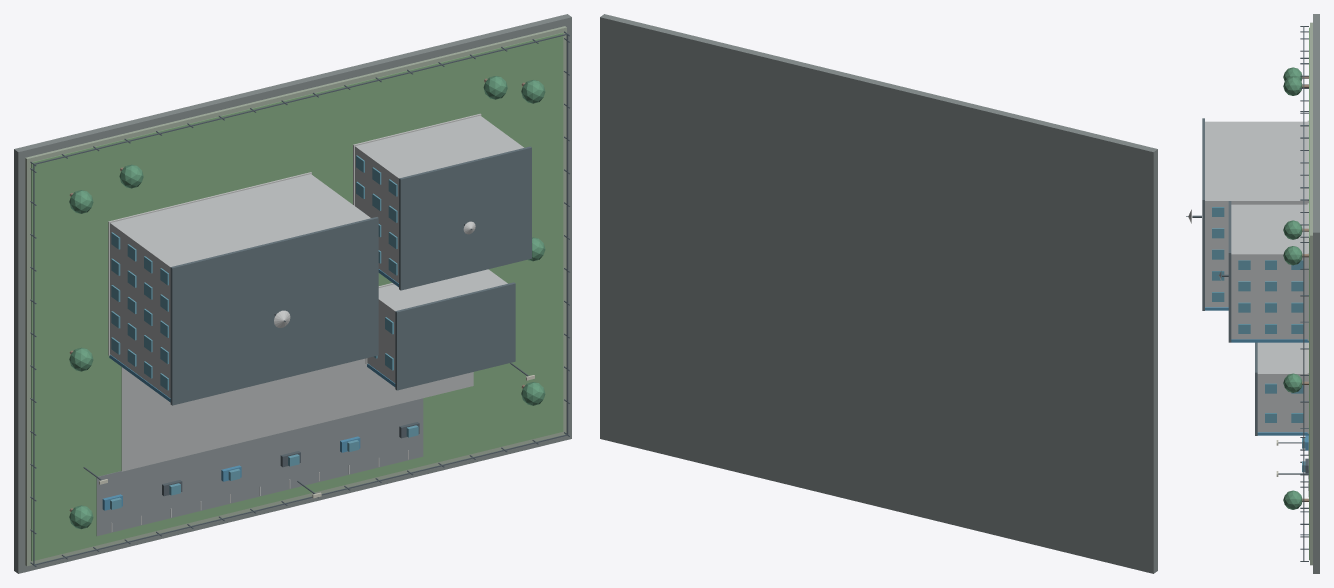
Rendered from scouting_office_level_4.glb.
3 renders of one model, left to right at view 1: azimuth 30°, elevation 25°; view 2: azimuth 150°, elevation 25°; view 3: azimuth 270°, elevation 25°, orthographic. The views are drawn at different scales.
Parts seen in each view (by area): view 1: component_0002, component_0086, component_0084, component_0313, component_0069, component_0000, component_0208, component_0278, component_0001, component_0206, component_0276, component_0068 (+4 smaller); view 2: component_0000; view 3: component_0084, component_0206, component_0276, component_0000, component_0001, component_0068, component_0086, component_0208, component_0002, component_0066, component_0270, component_0366 (+7 smaller).
Part boxes in pixels (box(x1,y1,x2,y2)): component_0002: box(31, 32, 563, 561); component_0086: box(170, 217, 378, 405); component_0084: box(110, 174, 370, 398); component_0313: box(96, 398, 423, 535); component_0069: box(121, 358, 473, 471); component_0000: box(14, 14, 571, 573); component_0208: box(399, 146, 531, 290); component_0278: box(395, 282, 515, 390); component_0001: box(25, 26, 566, 566); component_0206: box(355, 115, 523, 283); component_0276: box(367, 269, 507, 383); component_0068: box(566, 35, 568, 434); component_0000: box(600, 14, 1157, 573); component_0084: box(1205, 121, 1307, 307); component_0206: box(1231, 204, 1307, 339); component_0276: box(1257, 342, 1307, 432); component_0000: box(1313, 14, 1319, 573); component_0001: box(1310, 22, 1312, 565); component_0068: box(1303, 237, 1304, 561); component_0086: box(1202, 118, 1204, 310); component_0208: box(1228, 201, 1231, 342); component_0002: box(1309, 27, 1309, 560); component_0066: box(1303, 26, 1304, 236); component_0270: box(1231, 339, 1308, 342); component_0366: box(1283, 246, 1302, 265).
Bounding box in the file's own units: 44.1 × 32.1 × 11.4.
